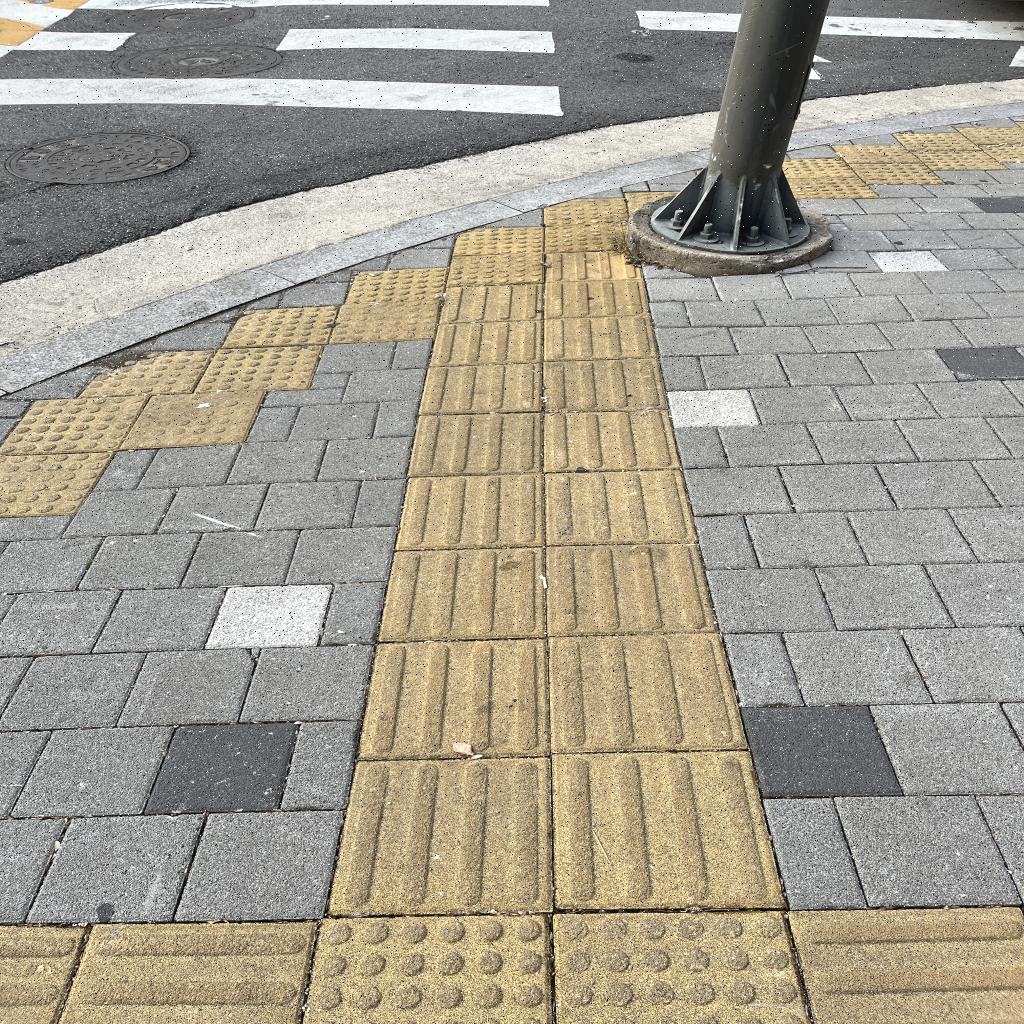Straight block normal: (326, 757, 551, 913), (550, 633, 745, 752), (379, 549, 543, 637), (544, 408, 679, 472)
